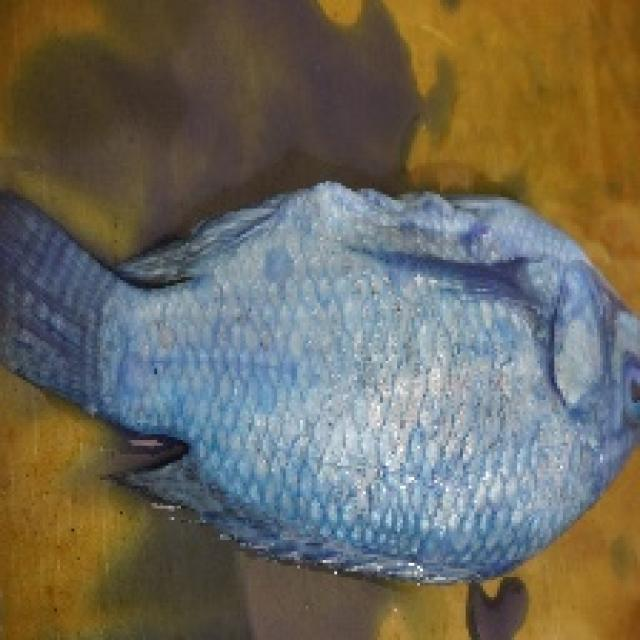Non-Fresh: (48, 179, 640, 574)
